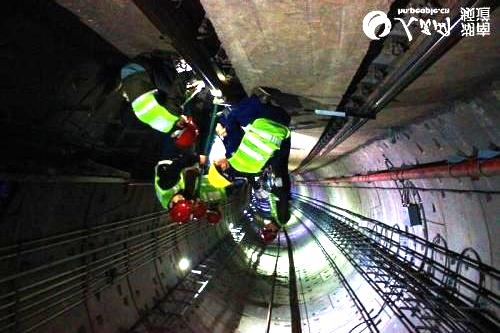helmet: (207, 158, 235, 189), (167, 195, 193, 225), (170, 121, 197, 149), (259, 222, 279, 244), (205, 205, 223, 225), (191, 201, 207, 221)
